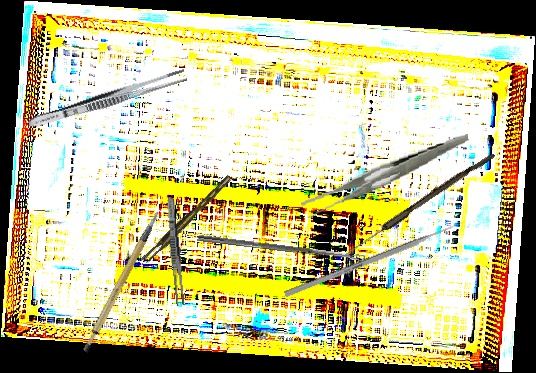Dressing Forceps: (295, 134, 476, 219), (26, 66, 188, 132), (164, 196, 187, 307)
Pusher: (283, 218, 467, 299)
Scalpel Handle: (64, 210, 182, 355)
Surgical Spoon: (342, 149, 496, 260), (197, 234, 365, 263)
Tissue Forceps: (137, 174, 237, 266)
